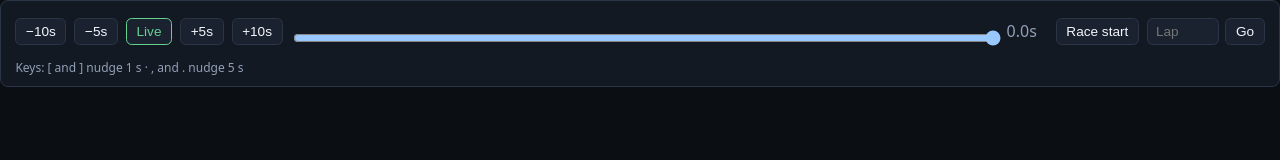
Scenario: TransportBar -- live › shows a message when Race start has not been seen yet
Click the button "Race start". click: {"x": 1097, "y": 31}
box: [1056,18,1139,45]
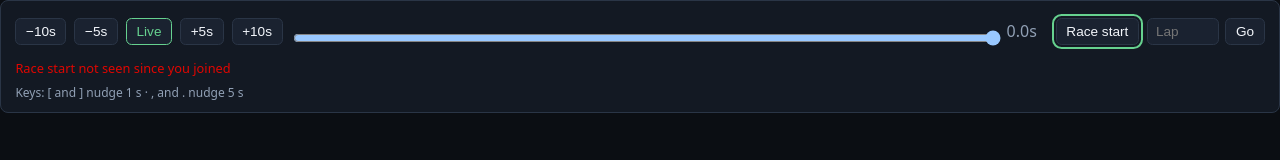
Check: the text "Race start not seen since you joined" is shown, box [15,59,231,77]
